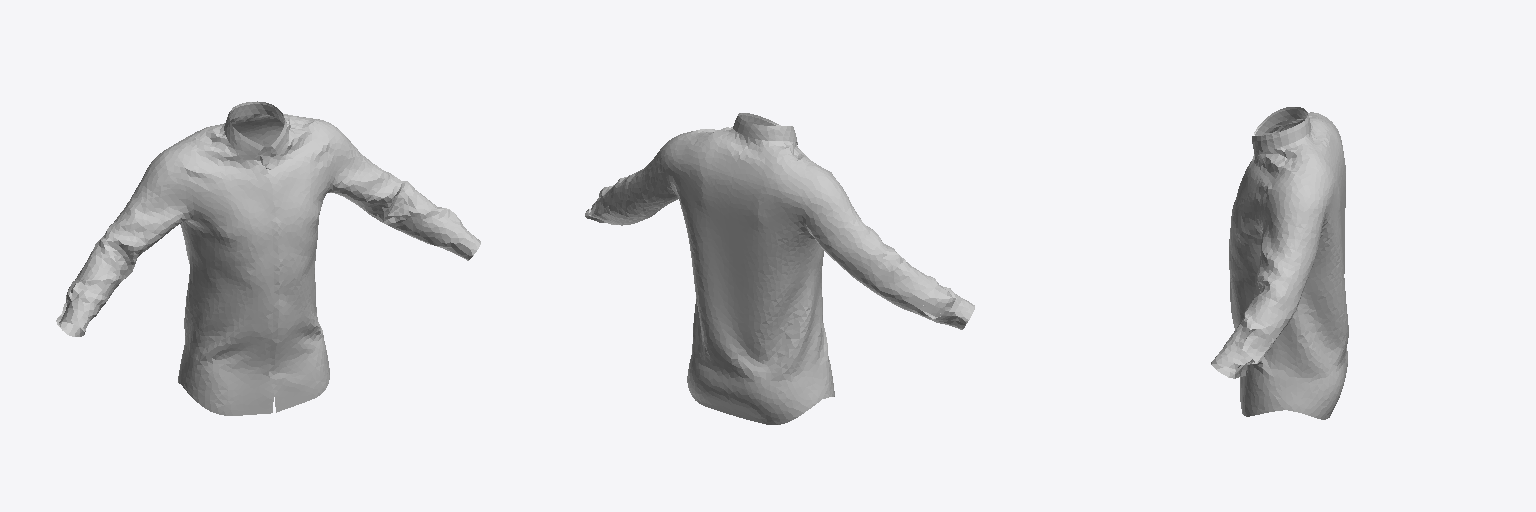
Rendered from longsleeve.obj.
The picture shows the model from 3 angles: view 1: azimuth 30°, elevation 25°; view 2: azimuth 150°, elevation 25°; view 3: azimuth 270°, elevation 25°; orthographic projection.
Parts seen in each view (by area): view 1: longsleeve; view 2: longsleeve; view 3: longsleeve.
Boxes of the visible parts, x1=… form: longsleeve: x1=56, y1=101, x2=480, y2=415; longsleeve: x1=585, y1=113, x2=974, y2=424; longsleeve: x1=1211, y1=107, x2=1348, y2=419.
Size of the model in its own units: 21.36 by 14.58 by 6.4.